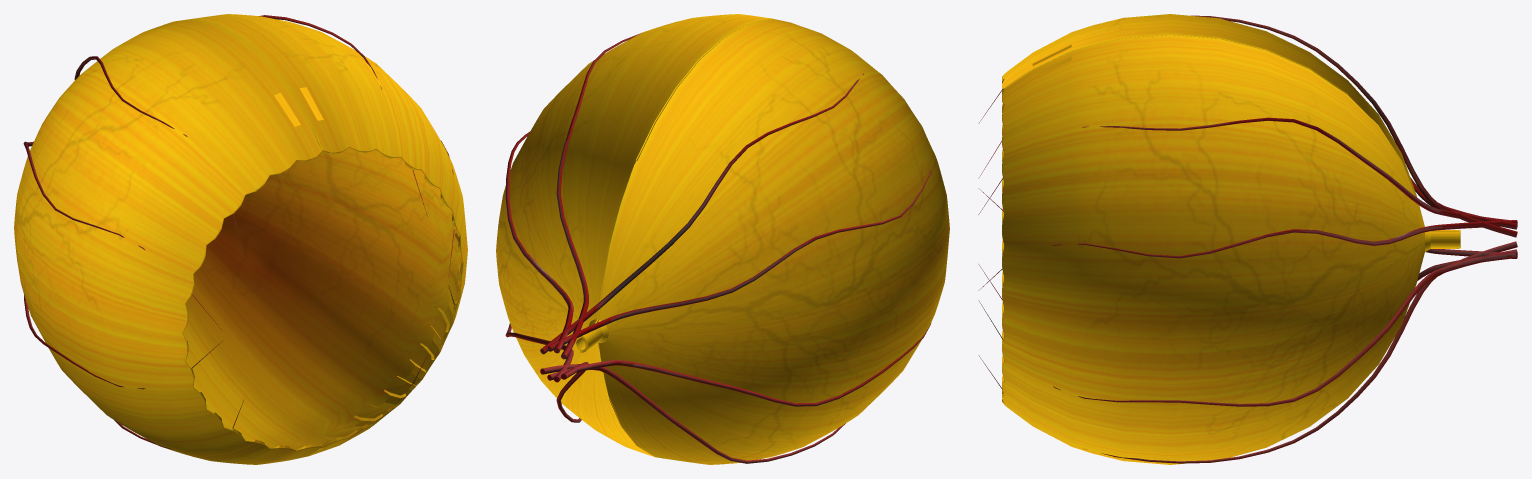
Rendered from BakedRetina.obj.
3 renders of one model, left to right at view 1: azimuth 30°, elevation 25°; view 2: azimuth 150°, elevation 25°; view 3: azimuth 270°, elevation 25°, orthographic.
Parts seen in each view (by area): view 1: pasted__eye_section_retina_left_new group, group pasted__eye_section_retina_right_new, pasted__eye_section_Arterie_Right group1, group1 pasted__eye_section_Arterie_Left; view 2: group pasted__eye_section_retina_right_new, pasted__eye_section_retina_left_new group, pasted__eye_section_Arterie_Right group1, group1 pasted__eye_section_Arterie_Left; view 3: pasted__eye_section_retina_left_new group, group pasted__eye_section_retina_right_new, group1 pasted__eye_section_Arterie_Left, pasted__eye_section_Arterie_Right group1.
Boxes of the visible parts, x1=… form: pasted__eye_section_retina_left_new group: x1=177, y1=14, x2=467, y2=455; group pasted__eye_section_retina_right_new: x1=14, y1=18, x2=323, y2=464; pasted__eye_section_Arterie_Right group1: x1=23, y1=56, x2=244, y2=452; group1 pasted__eye_section_Arterie_Left: x1=259, y1=15, x2=454, y2=400; group pasted__eye_section_retina_right_new: x1=580, y1=18, x2=949, y2=464; pasted__eye_section_retina_left_new group: x1=496, y1=14, x2=791, y2=456; pasted__eye_section_Arterie_Right group1: x1=540, y1=73, x2=935, y2=463; group1 pasted__eye_section_Arterie_Left: x1=505, y1=33, x2=640, y2=422; pasted__eye_section_retina_left_new group: x1=1002, y1=34, x2=1460, y2=464; group pasted__eye_section_retina_right_new: x1=1002, y1=14, x2=1460, y2=382; group1 pasted__eye_section_Arterie_Left: x1=978, y1=117, x2=1517, y2=463; pasted__eye_section_Arterie_Right group1: x1=978, y1=15, x2=1517, y2=299.
Size of the model in its own units: 2.19 by 2.21 by 2.63.
Materials: 4 (4 with a texture image).
